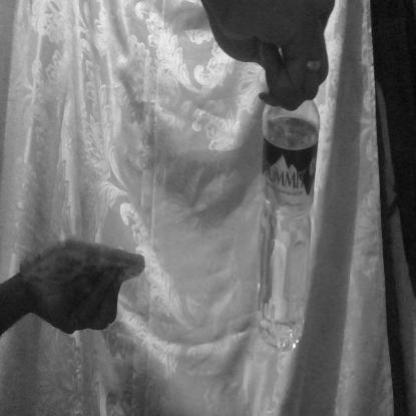Plastic Bottle: (235, 13, 345, 354)
